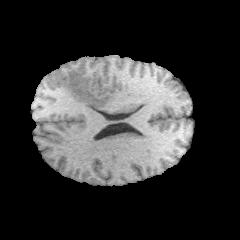glioma: (66, 69, 112, 109)
